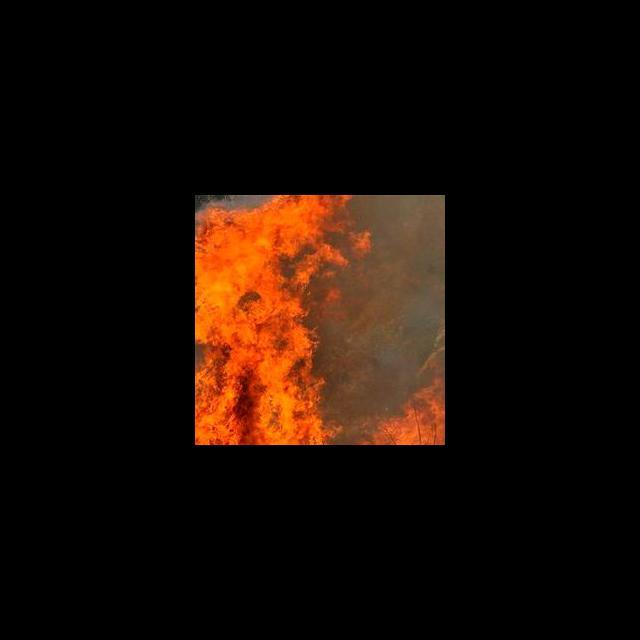Fire: (196, 195, 373, 444), (359, 377, 445, 444)
